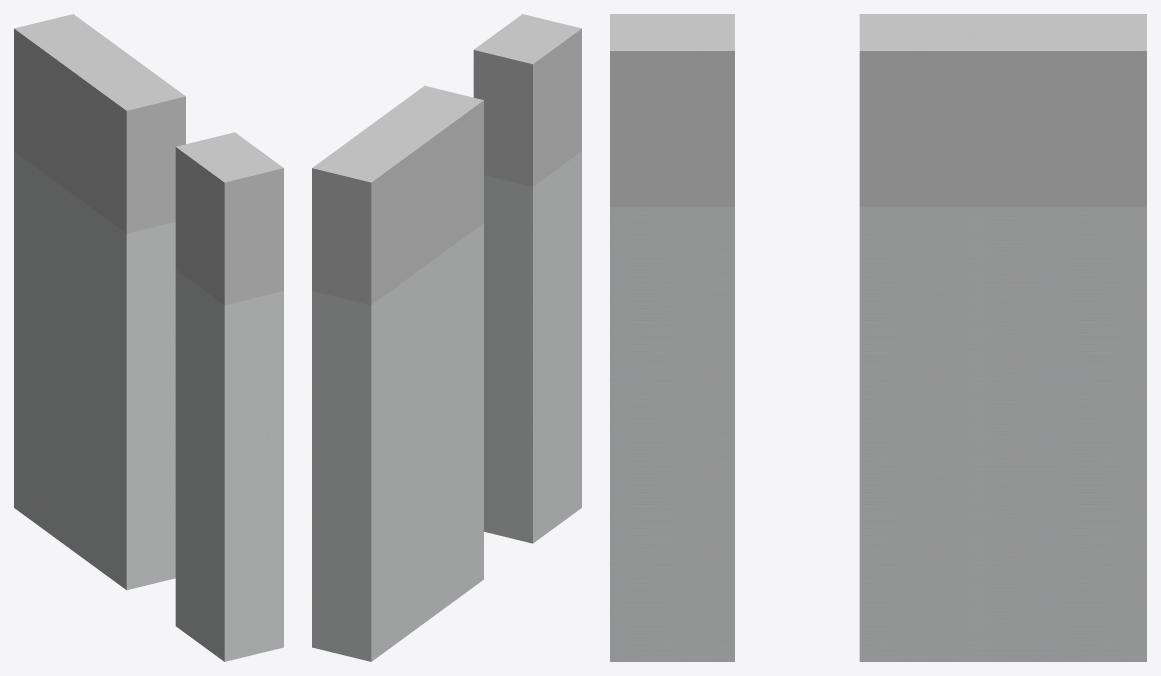
The picture shows the model from 3 angles, left to right: view 1: azimuth 30°, elevation 25°; view 2: azimuth 150°, elevation 25°; view 3: azimuth 270°, elevation 25°; orthographic projection. The views are drawn at different scales.
Parts seen in each view (by area): view 1: Box2390; view 2: Box2390; view 3: Box2390.
Part boxes in pixels (<box>): Box2390: <box>14,14,283,661</box>; Box2390: <box>312,14,581,661</box>; Box2390: <box>610,14,1146,661</box>.
Size of the model in its own units: 0.0258 by 0.199 by 0.1585.
2 materials, 2 textured.
